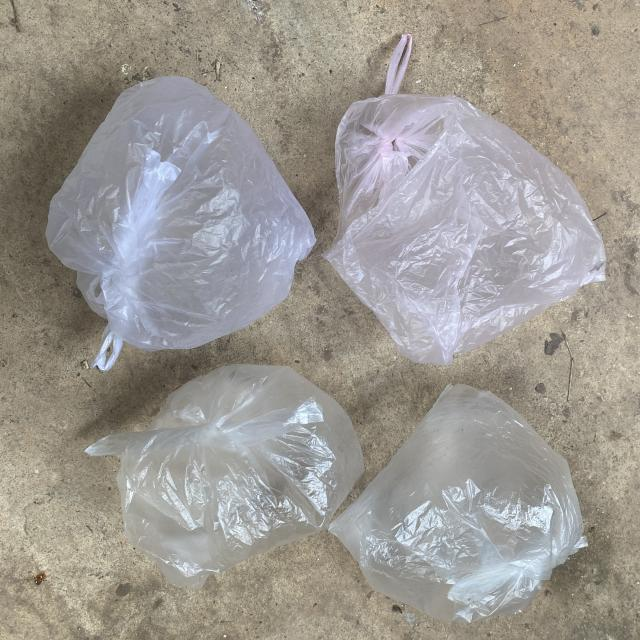Single-layer Plastic: (325, 35, 606, 365), (46, 76, 315, 371), (86, 365, 364, 588), (329, 384, 586, 622)
